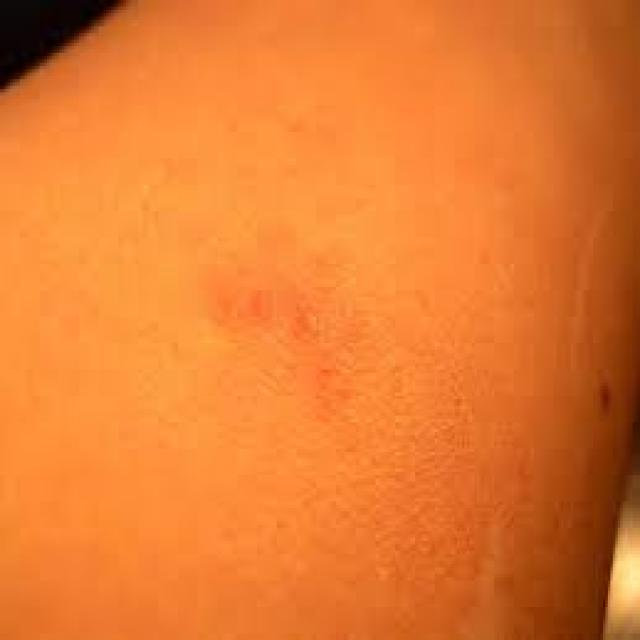kan emici bocekler: (230, 275, 344, 402)
